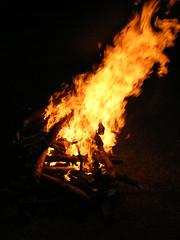fire: (40, 2, 180, 176)
